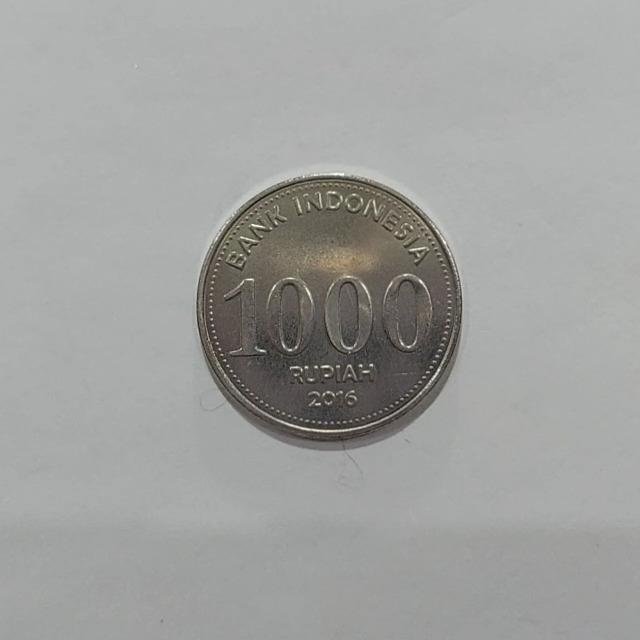Rp100: (194, 169, 464, 450)
